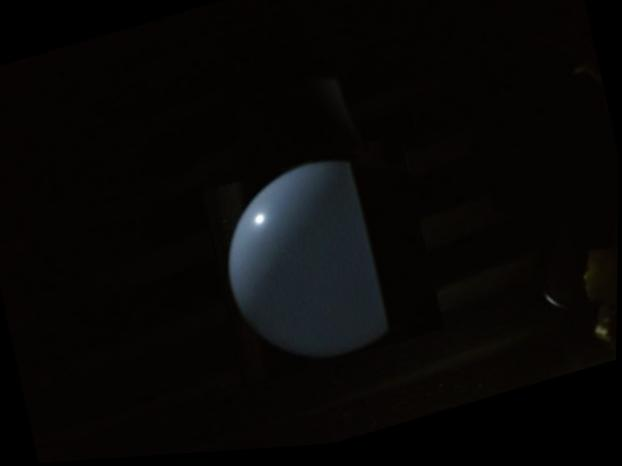Fan: (198, 134, 446, 393)
